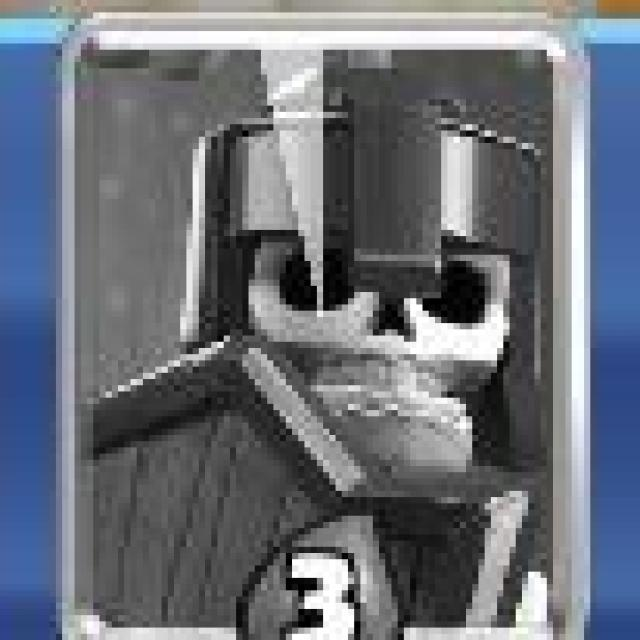Guards: (57, 13, 592, 622)
